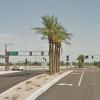Palm tree: (35, 10, 76, 75)
